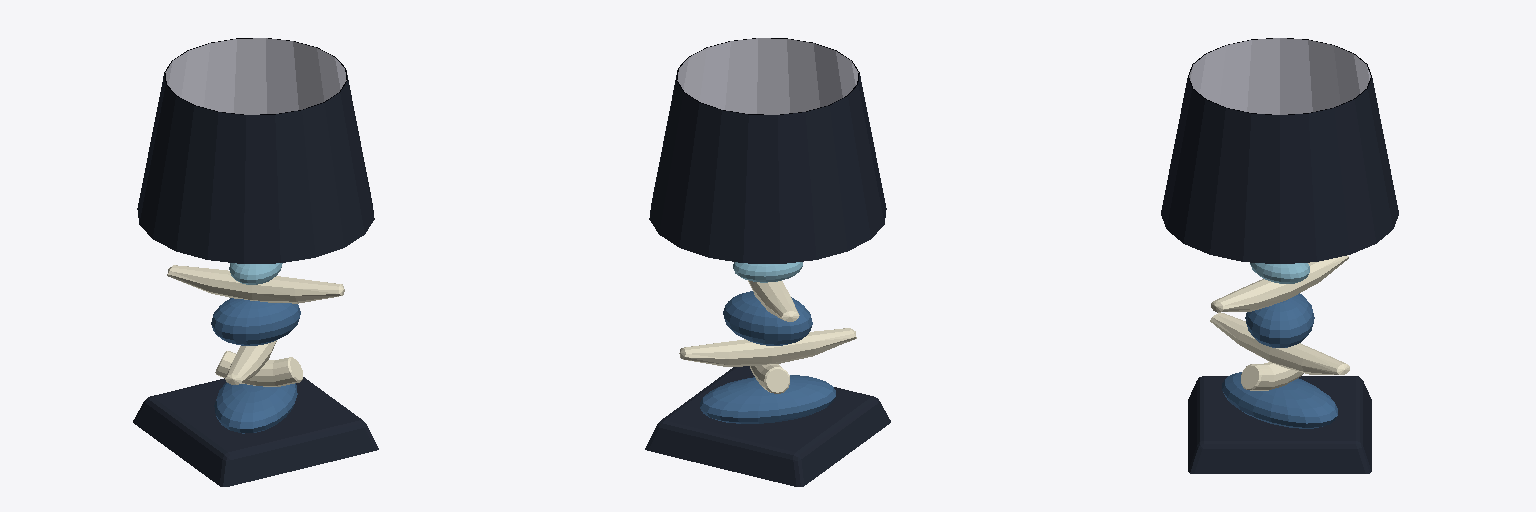
3 views of the same model, side by side, from view 1: azimuth 30°, elevation 25°; view 2: azimuth 150°, elevation 25°; view 3: azimuth 270°, elevation 25° (orthographic).
Visible parts, largest first — view 1: lamp; view 2: lamp; view 3: lamp.
Part boxes in pixels (x1,y1,x2,y2): lamp: (133, 38, 378, 486); lamp: (645, 38, 890, 486); lamp: (1161, 38, 1398, 473).
Bounding box in the file's own units: 221 × 366 × 221.
Materials: 1 (1 with a texture image).